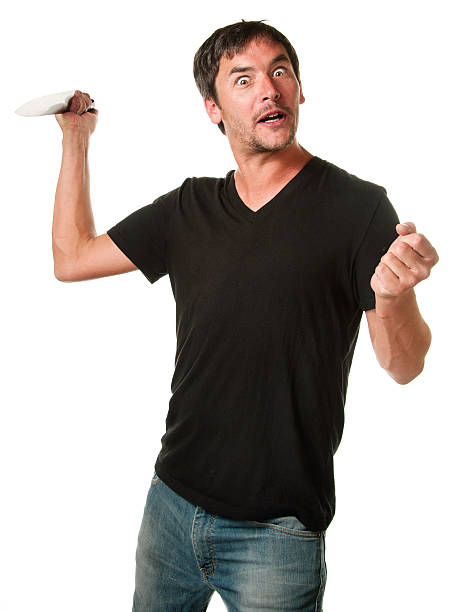knife: (13, 90, 100, 115)
